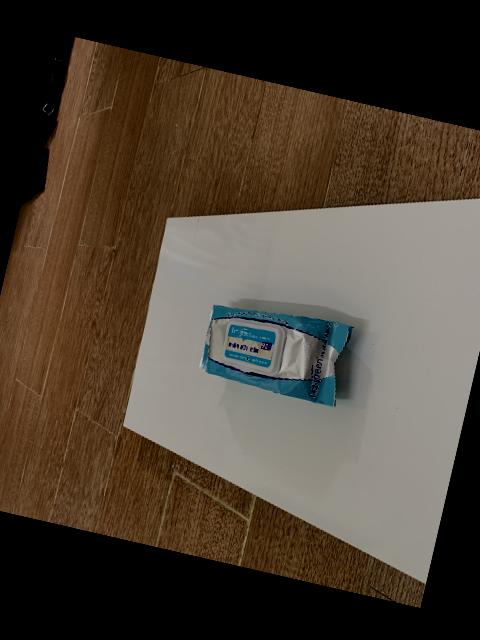Let-green_alcohol_wipes: (199, 303, 353, 406)
